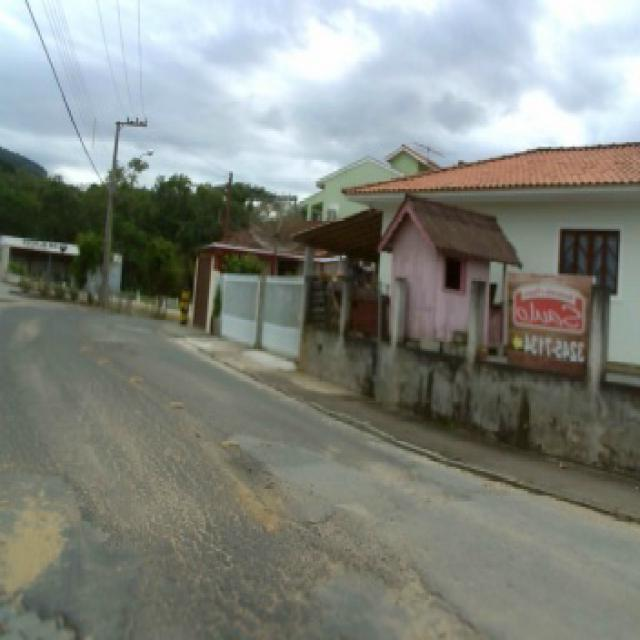Poth-hole: (304, 548, 486, 636), (4, 574, 90, 636), (296, 496, 344, 528), (220, 436, 246, 446), (169, 398, 189, 407), (129, 371, 149, 380), (98, 353, 115, 362)
